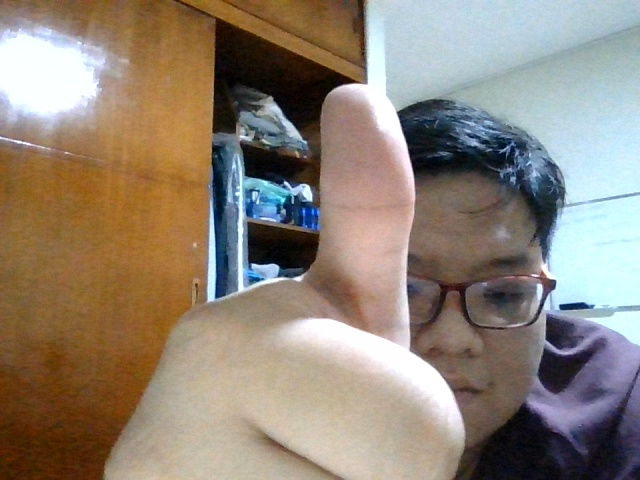si: (125, 82, 465, 478)
